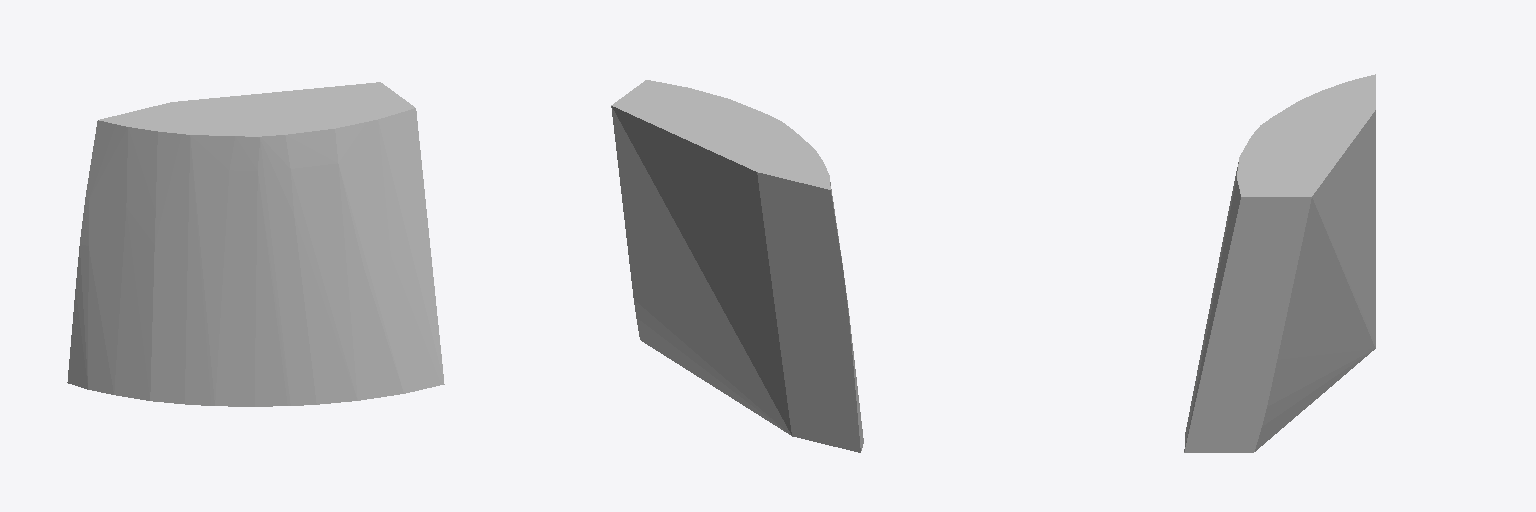
File: phantom-elastrat_collision_81.obj
3 views of the same model, side by side, from view 1: azimuth 30°, elevation 25°; view 2: azimuth 150°, elevation 25°; view 3: azimuth 270°, elevation 25° (orthographic).
Bounding box in the file's own units: 0.0078 × 0.0068 × 0.0046.